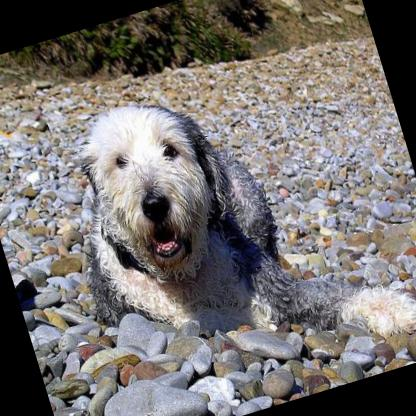Old_English_sheepdog: (35, 33, 416, 416)
